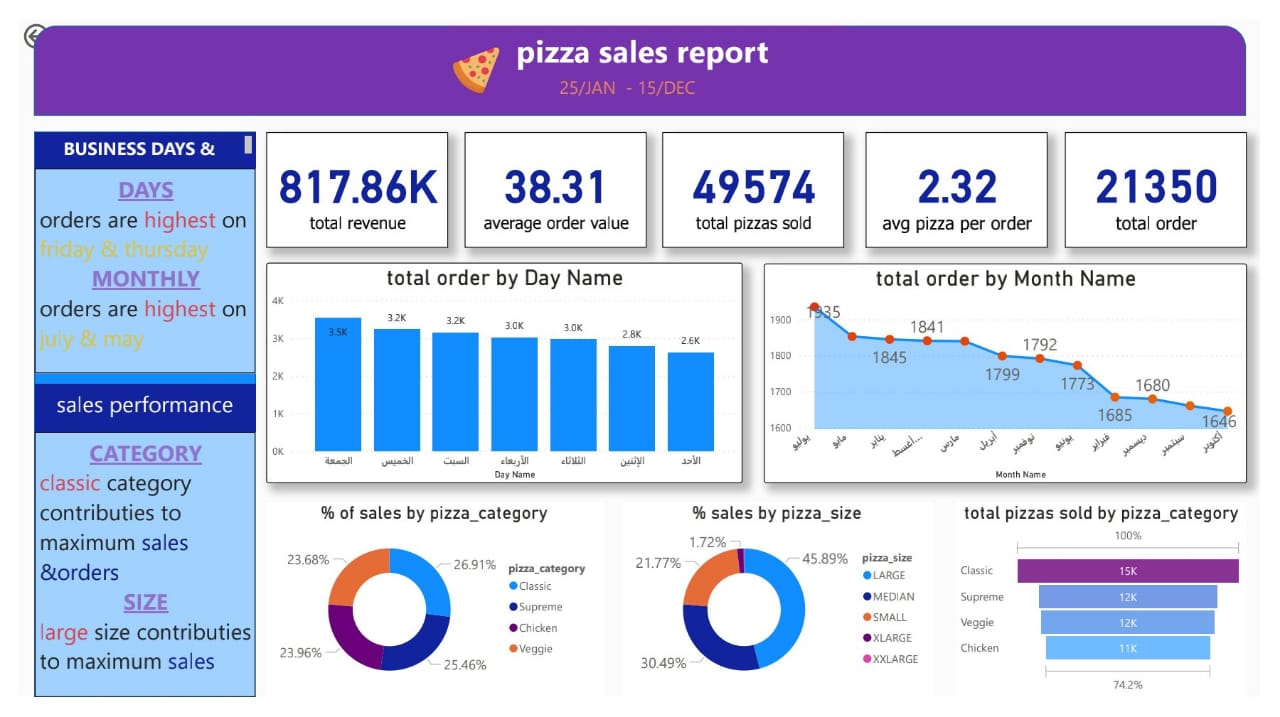

The page's visual inventory and layout, read from the dashboard file:
{"tool":"powerbi","page":{"name":"Page 1","canvas":[1500,820],"ordinal":0},"visuals":[{"type":"textbox","box":[18,560.9,267.3,44.3],"z":0},{"type":"card","fields":{"Values":["pizza_sales.total revenue"]},"box":[298.5,136.1,219.8,139.4],"z":1000},{"type":"card","fields":{"Values":["pizza_sales.average order value"]},"box":[537.9,136.1,219.8,139.4],"z":2000},{"type":"actionButton","box":[0,0,100,40],"z":3000},{"type":"card","fields":{"Values":["pizza_sales.total order"]},"box":[1264.4,136.1,219.8,139.4],"z":4000},{"type":"shape","box":[18,136.1,267.3,683.9],"z":5000},{"type":"card","fields":{"Values":["pizza_sales.avg pizza per order"]},"box":[1023.4,136.1,219.8,139.4],"z":6000},{"type":"card","fields":{"Values":["pizza_sales.total pizzas sold"]},"box":[777.4,136.1,219.8,139.4],"z":7000},{"type":"shape","box":[17.2,6.9,1465.5,108.6],"z":8000},{"type":"textbox","box":[519,6.9,479.3,65.5],"z":9000},{"type":"textbox","box":[647.8,62.3,214.8,42.6],"z":10000},{"type":"image","box":[518,18,68,86],"z":11000},{"type":"columnChart","fields":{"Category":["pizza_sales.Day Name"],"Y":["pizza_sales.total order"]},"box":[298.5,293.6,575.6,267.3],"z":12000},{"type":"areaChart","fields":{"Y":["pizza_sales.total order"],"Category":["pizza_sales.Month Name"]},"box":[900.4,295.2,583.8,265.7],"z":13000},{"type":"donutChart","title":"% of sales by pizza_category","fields":{"Y":["pizza_sales.total revenue"],"Category":["pizza_sales.pizza_category"]},"box":[298.5,583.8,406.7,236.2],"z":14000},{"type":"donutChart","title":" % sales by pizza_size","fields":{"Y":["pizza_sales.total revenue"],"Category":["pizza_sales.pizza_size"]},"box":[728.2,583.8,375.6,236.2],"z":15000},{"type":"funnel","fields":{"Y":["pizza_sales.total pizzas sold"],"Category":["pizza_sales.pizza_category"]},"box":[1133.2,583.8,351,236.2],"z":16000},{"type":"textbox","box":[18,136.1,267.3,44.3],"z":17000},{"type":"textbox","box":[18,180.4,267.3,247.6],"z":18000},{"type":"textbox","box":[18,498.6,267.3,321.4],"z":19000},{"type":"textbox","box":[18,441.2,267.3,57.4],"z":19001}]}

Visuals, with their boxes in screenshot pixels (x1, y1, x2, y2), scaled from the page's 1500x820 canvas onto the 1280x717 screenshot:
textbox: (15, 490, 243, 529)
card - pizza_sales.total revenue: (255, 119, 442, 241)
card - pizza_sales.average order value: (459, 119, 647, 241)
actionButton: (0, 0, 85, 35)
card - pizza_sales.total order: (1079, 119, 1267, 241)
shape: (15, 119, 243, 716)
card - pizza_sales.avg pizza per order: (873, 119, 1061, 241)
card - pizza_sales.total pizzas sold: (663, 119, 851, 241)
shape: (15, 6, 1265, 101)
textbox: (443, 6, 852, 63)
textbox: (553, 54, 736, 92)
image: (442, 16, 500, 91)
columnChart - pizza_sales.Day Name x pizza_sales.total order: (255, 257, 746, 490)
areaChart - pizza_sales.total order x pizza_sales.Month Name: (768, 258, 1267, 490)
"% of sales by pizza_category" donutChart: (255, 510, 602, 716)
" % sales by pizza_size" donutChart: (621, 510, 942, 716)
funnel - pizza_sales.total pizzas sold x pizza_sales.pizza_category: (967, 510, 1267, 716)
textbox: (15, 119, 243, 158)
textbox: (15, 158, 243, 374)
textbox: (15, 436, 243, 716)
textbox: (15, 386, 243, 436)
